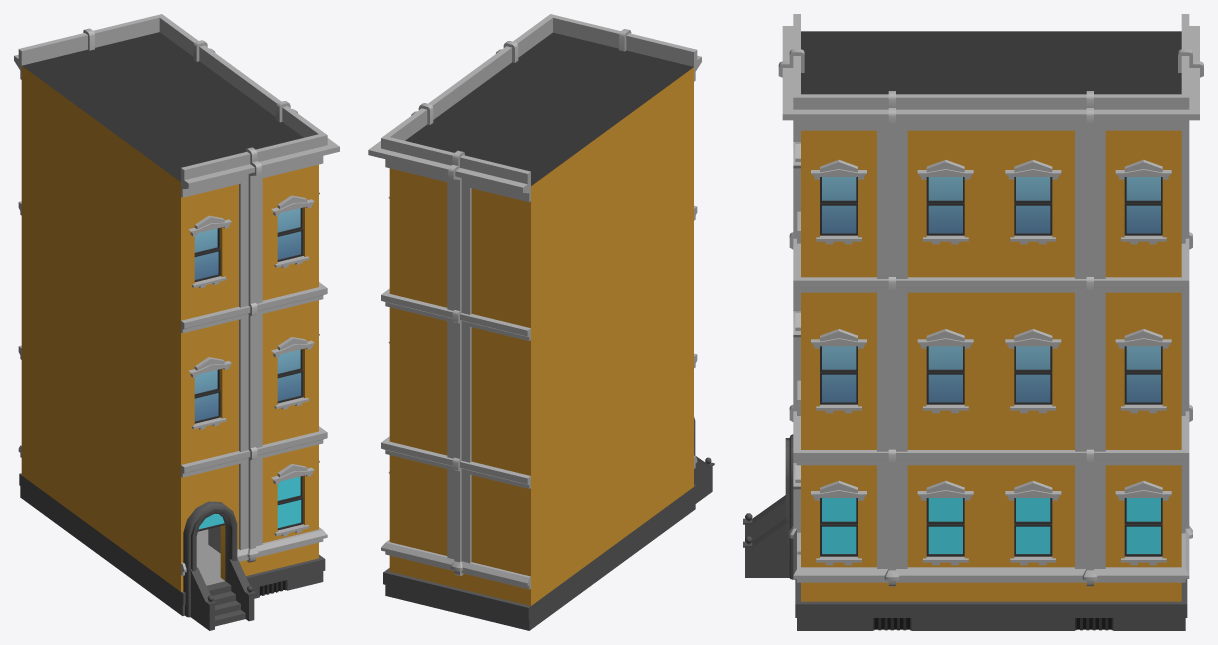
Rendered from SM_Buildings_House_01_V4.fbx.
3 views of the same model, side by side, from view 1: azimuth 30°, elevation 25°; view 2: azimuth 150°, elevation 25°; view 3: azimuth 270°, elevation 25° (orthographic). The views are drawn at different scales.
Visible parts, largest first — view 1: SM_Buildings_House_01_V4; view 2: SM_Buildings_House_01_V4; view 3: SM_Buildings_House_01_V4.
Part boxes in pixels (x1,y1,x2,y2): SM_Buildings_House_01_V4: (14,14,339,630); SM_Buildings_House_01_V4: (368,14,714,630); SM_Buildings_House_01_V4: (743,14,1203,630).
Size of the model in its own units: 5.58 by 15.6 by 12.1.
